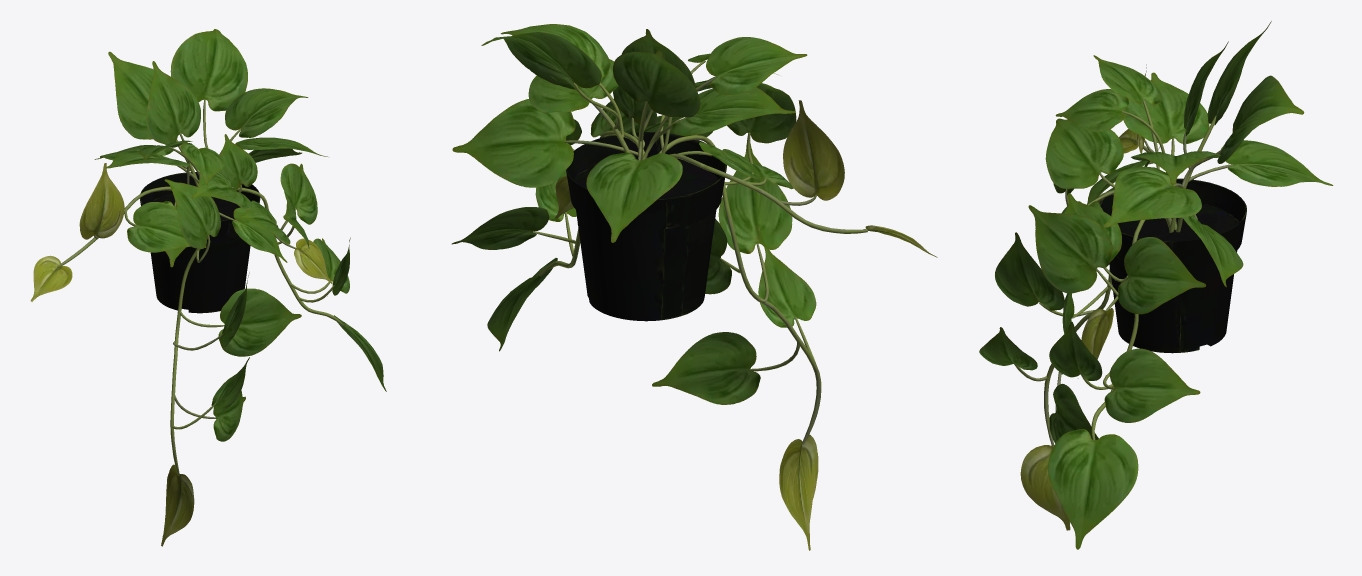
File: 40615271-mini.glb
The picture shows the model from 3 angles, left to right: view 1: azimuth 30°, elevation 25°; view 2: azimuth 150°, elevation 25°; view 3: azimuth 270°, elevation 25°; orthographic projection. The views are drawn at different scales.
Size of the model in its own units: 0.4083 by 0.4873 by 0.304.
Materials: 2 (2 with a texture image).
